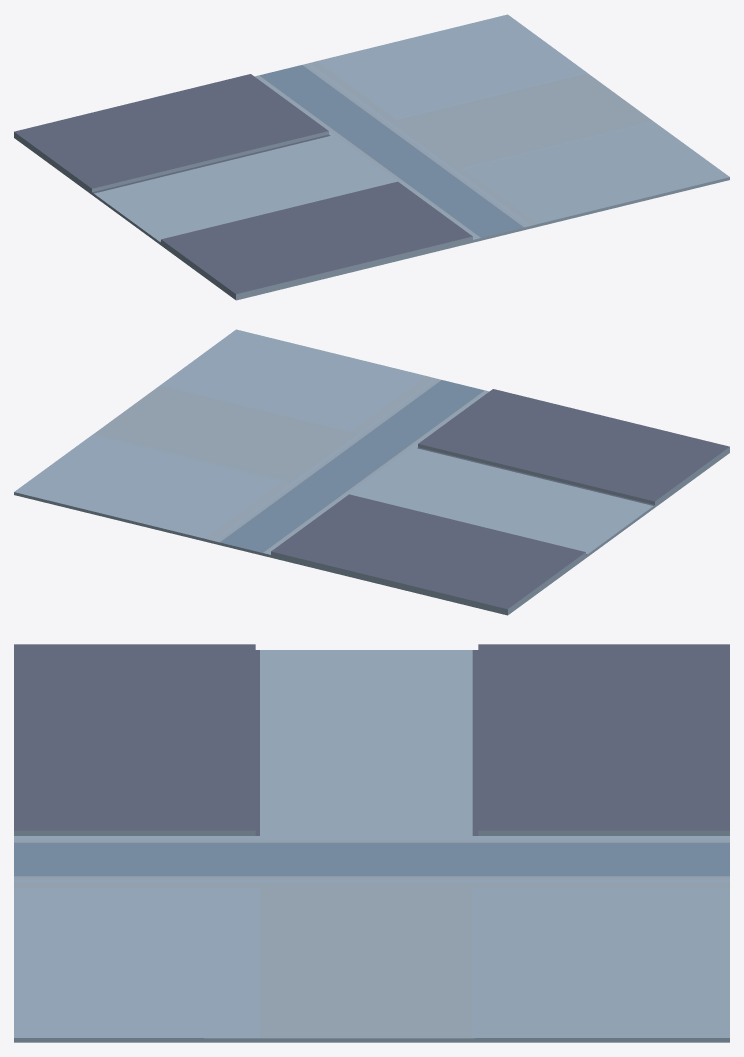
Rendered from NEW ENVIREMENTTTT.fbx.
3 views of the same model, one above another, from view 1: azimuth 30°, elevation 25°; view 2: azimuth 150°, elevation 25°; view 3: azimuth 270°, elevation 25° (orthographic). The views are drawn at different scales.
Parts seen in each view (by area): view 1: Cube.001; view 2: Cube.001; view 3: Cube.001.
Part boxes in pixels (bbox=[...]): Cube.001: bbox=[14, 14, 729, 300]; Cube.001: bbox=[14, 329, 729, 615]; Cube.001: bbox=[14, 644, 729, 1042].
Size of the model in its own units: 464 by 5.64 by 361.
